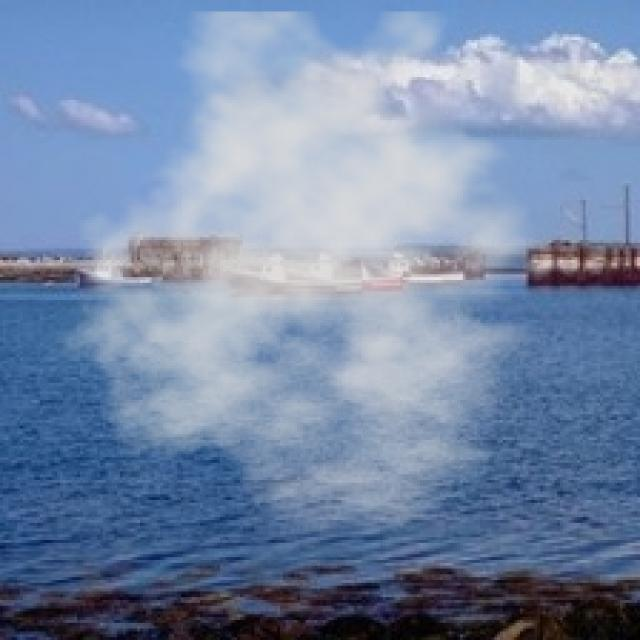smoke: (54, 12, 592, 537)
